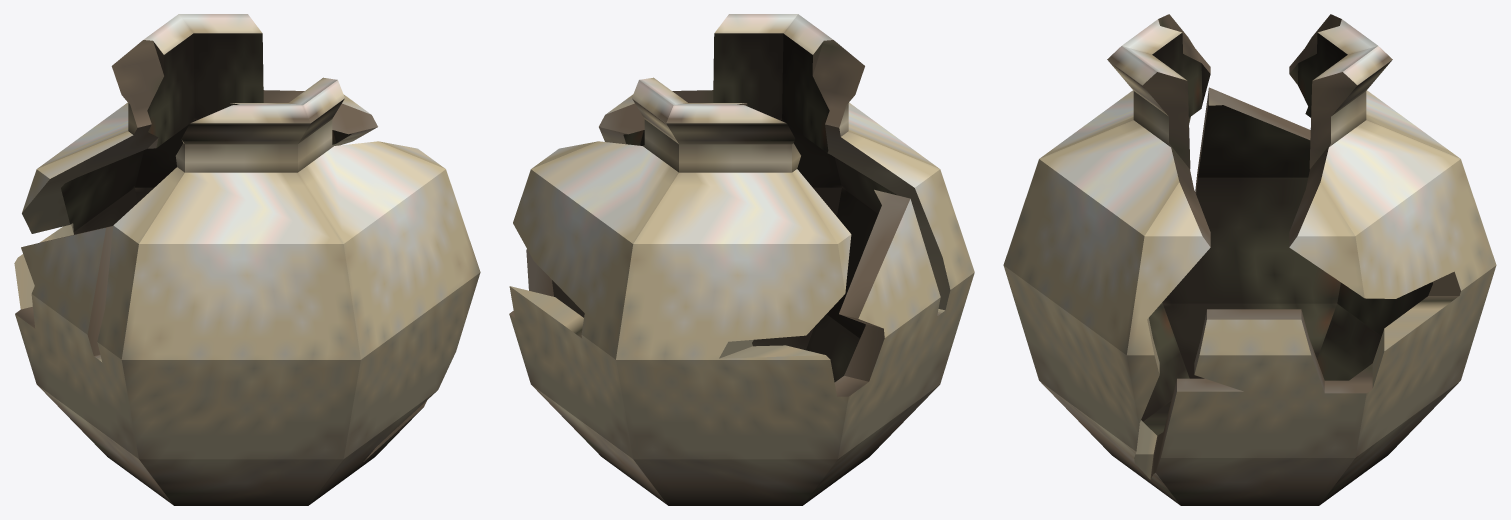
The model's file is Inside_Poly_Pottery_01_Damaged.obj.
3 renders of one model, left to right at view 1: azimuth 30°, elevation 25°; view 2: azimuth 150°, elevation 25°; view 3: azimuth 270°, elevation 25°, orthographic. The views are drawn at different scales.
Parts seen in each view (by area): view 1: Circle.001; view 2: Circle.001; view 3: Circle.001.
Boxes of the visible parts, bbox=[...] form: Circle.001: bbox=[14, 14, 480, 505]; Circle.001: bbox=[509, 14, 974, 505]; Circle.001: bbox=[1003, 14, 1496, 505].
Bounding box in the file's own units: 0.7213 × 0.7632 × 0.8329.
1 material, 1 textured.
